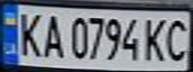0: (66, 12, 87, 61)
4: (121, 15, 145, 62)
7: (84, 14, 106, 61)
9: (103, 15, 124, 61)
A: (36, 10, 66, 60)
C: (160, 15, 193, 63)
K: (12, 8, 45, 59), (139, 15, 172, 63)
